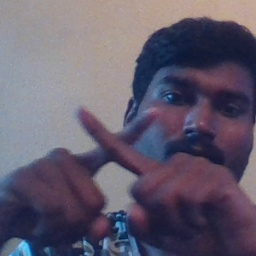X: (42, 93, 189, 230)
